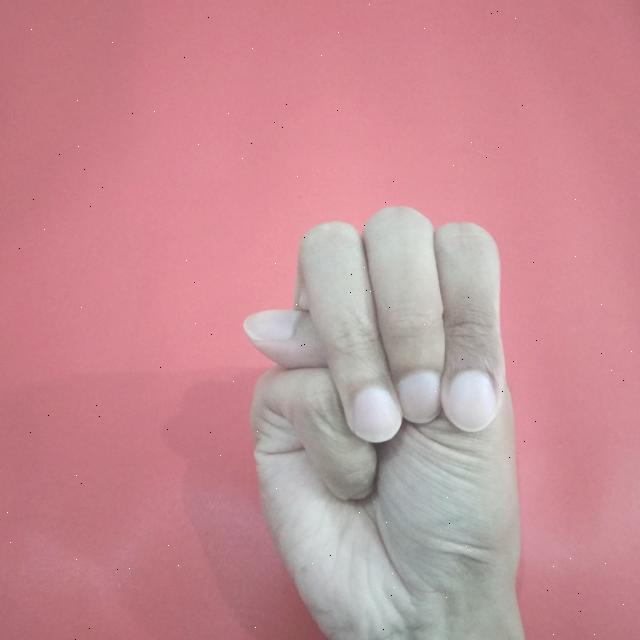M: (246, 198, 532, 640)
